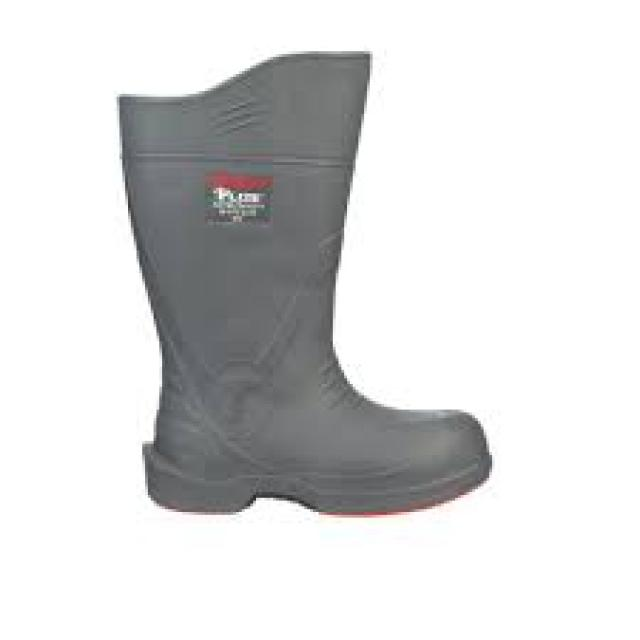shoes: (121, 55, 491, 512)
